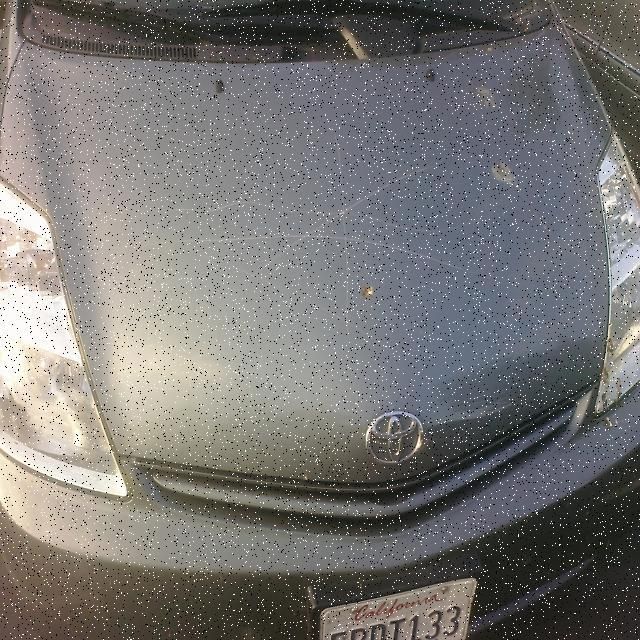bonnet-dent: (17, 61, 640, 484)
